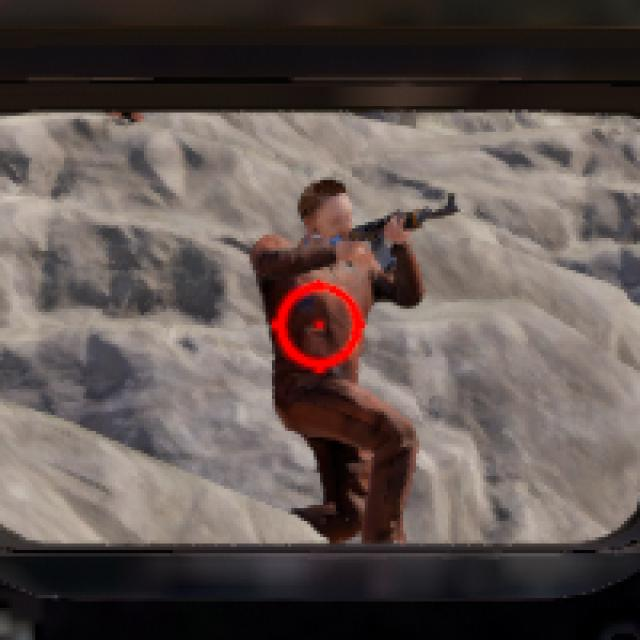Player: (252, 182, 422, 537)
